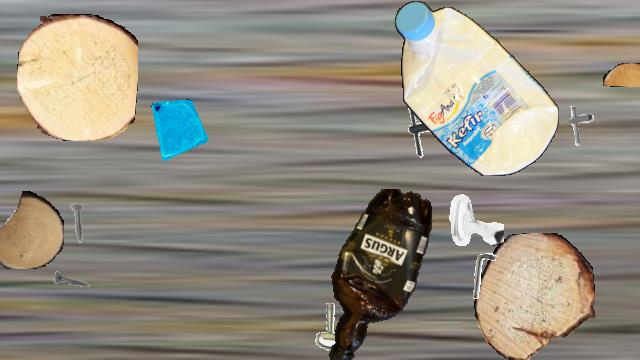glass: (148, 99, 212, 163)
metal: (397, 99, 457, 159), (446, 191, 504, 249), (305, 299, 361, 355), (459, 249, 513, 303), (557, 103, 601, 147), (53, 258, 95, 300), (57, 202, 99, 244)
plastic: (395, 1, 559, 175), (319, 189, 439, 359)
wood: (474, 233, 594, 359), (17, 14, 137, 140), (0, 191, 64, 269), (603, 63, 640, 87)
